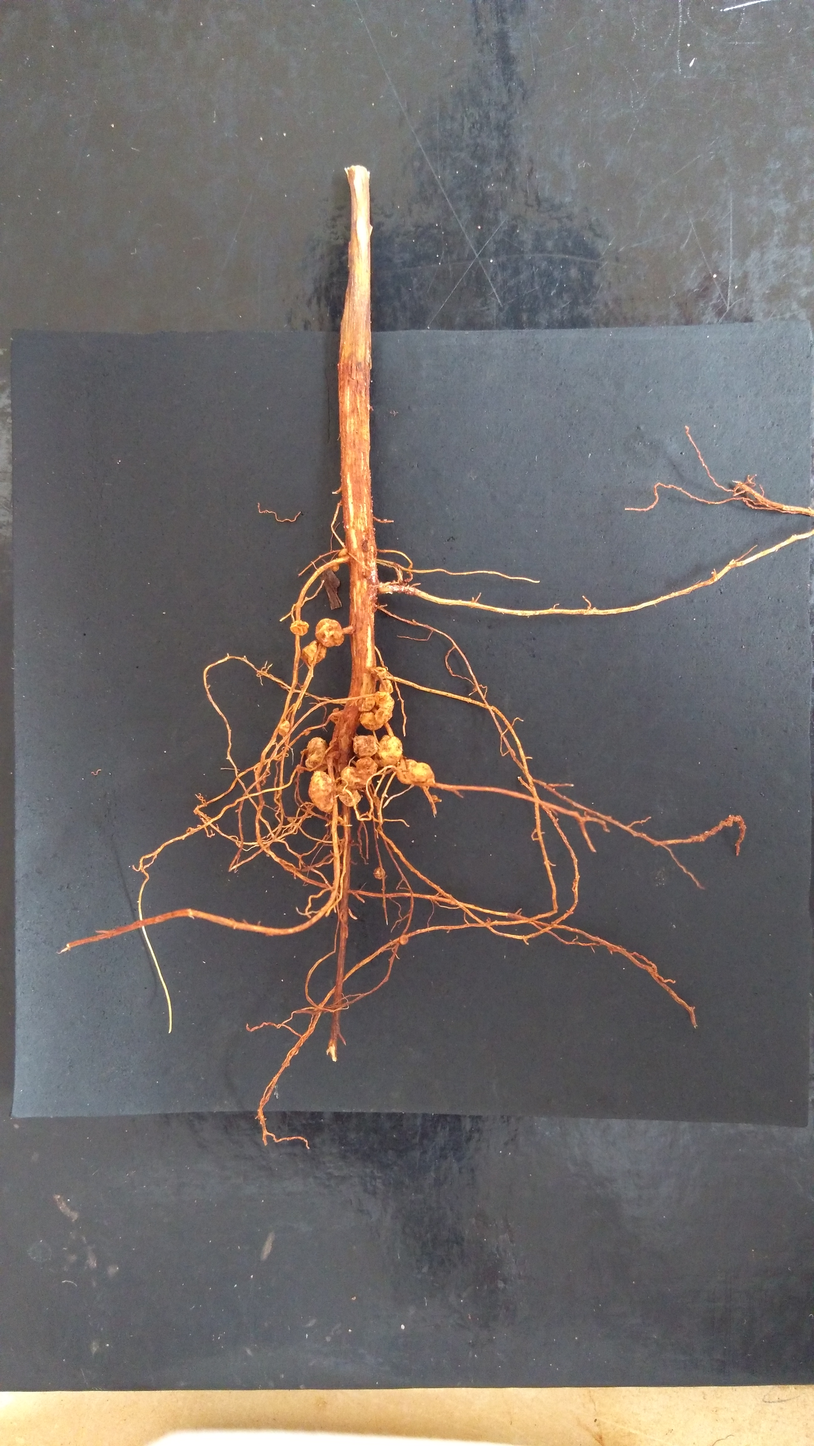nodule: (359, 691, 395, 730), (308, 770, 334, 814), (395, 759, 435, 787), (374, 734, 403, 767), (305, 737, 330, 772), (315, 618, 344, 647), (340, 766, 372, 788), (302, 639, 327, 666), (336, 782, 361, 807), (352, 735, 377, 759), (356, 757, 378, 775), (290, 620, 309, 636), (358, 696, 375, 712), (376, 580, 394, 595), (372, 666, 387, 681), (379, 679, 394, 693), (277, 721, 290, 737), (329, 712, 341, 725), (329, 736, 339, 751), (374, 867, 385, 879), (337, 548, 348, 558), (398, 934, 408, 945), (331, 750, 341, 760), (296, 763, 304, 774), (331, 563, 339, 572), (300, 748, 309, 755), (431, 794, 438, 801), (332, 707, 340, 713), (305, 729, 311, 736), (486, 917, 491, 924)
